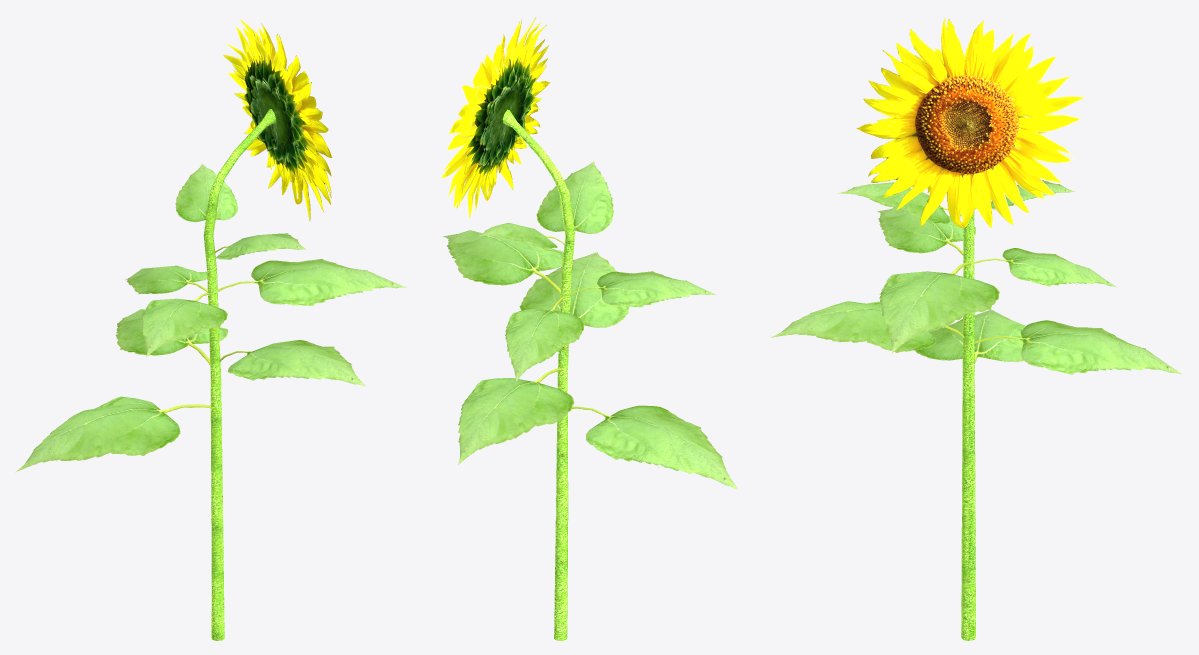
File: sunflower.glb
3 views of the same model, side by side, from view 1: azimuth 30°, elevation 25°; view 2: azimuth 150°, elevation 25°; view 3: azimuth 270°, elevation 25° (orthographic). The views are drawn at different scales.
Visible parts, largest first — view 1: Object_2; view 2: Object_2; view 3: Object_2.
Boxes of the visible parts, left/top/right/bottom form: Object_2: left=15, top=19, right=406, bottom=640; Object_2: left=439, top=17, right=738, bottom=640; Object_2: left=770, top=17, right=1182, bottom=640.
Size of the model in its own units: 138 by 229 by 133.
1 material, 1 textured.
